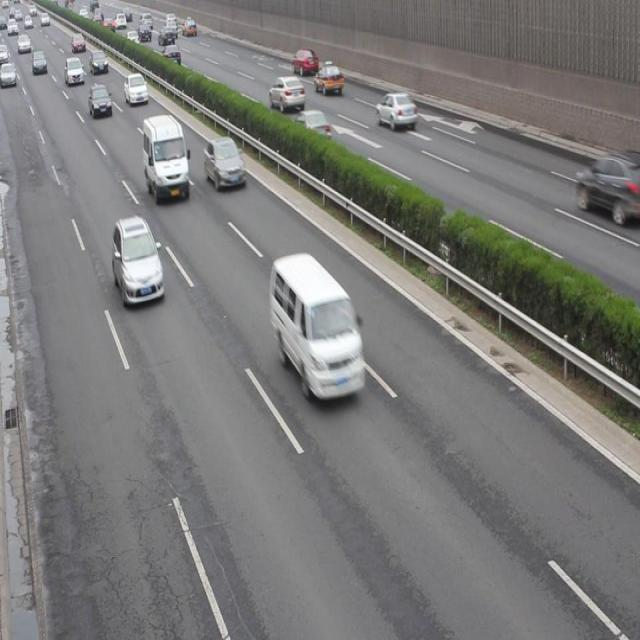car: (111, 214, 164, 307), (576, 150, 640, 227), (204, 136, 247, 192), (288, 108, 331, 148), (376, 91, 416, 131), (268, 75, 304, 112), (312, 64, 343, 96), (292, 46, 318, 80), (90, 84, 114, 120), (125, 73, 148, 106)
truck: (270, 250, 366, 402), (143, 114, 189, 202)
